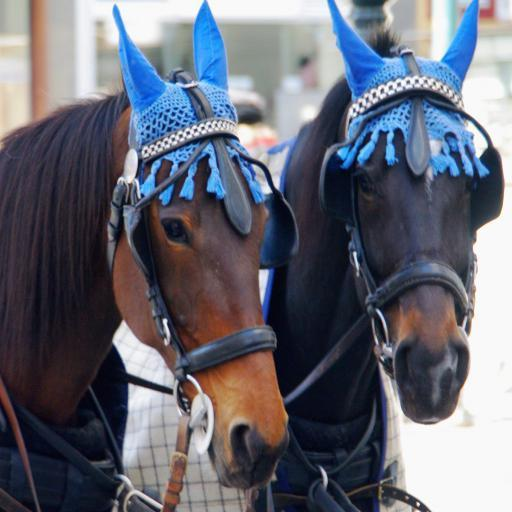horse: (0, 0, 290, 512), (267, 0, 473, 512)
